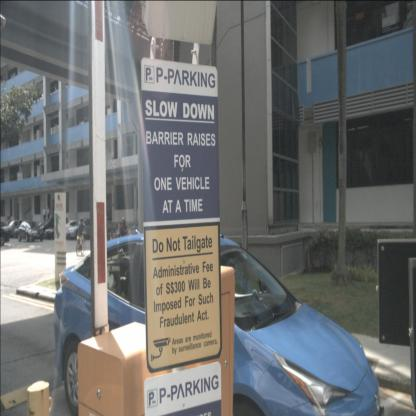human-pedestrian-adult: (47, 205, 51, 222), (42, 206, 46, 223)
vehicle-bicycle: (76, 217, 86, 257)
vehicle-car: (53, 233, 381, 416), (36, 218, 69, 239), (66, 219, 95, 240), (54, 220, 84, 239), (0, 219, 29, 238), (17, 221, 43, 242), (44, 221, 72, 240), (0, 226, 10, 246)
vehicle-motorcycle: (116, 217, 130, 240)
